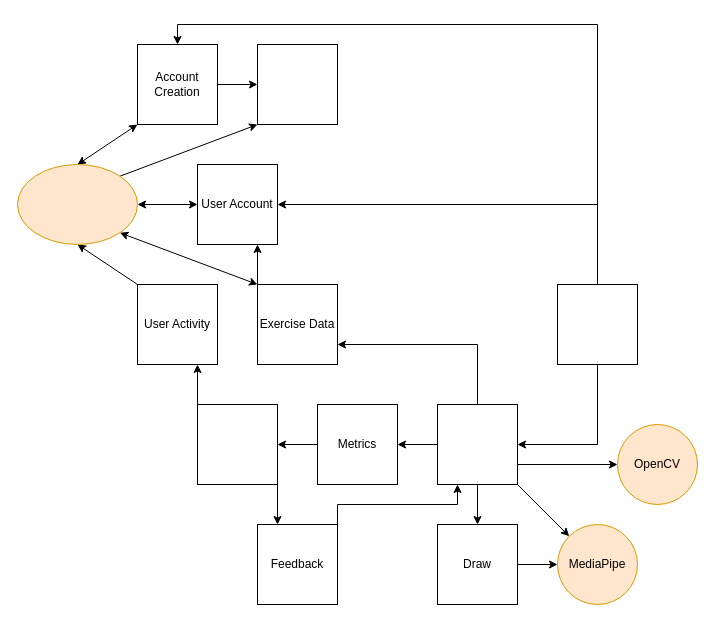
Image size: 715x622. Some labels were removed from this diagram. The shapes that lost their labels are listed below. From the top down, each one's centre as x and y in pixels, then its label:
the point at 297,84: Valid User
the point at 77,204: Firebase
the point at 597,324: User Interface
the point at 237,444: Analyze
the point at 477,444: Analysis Control Flow
